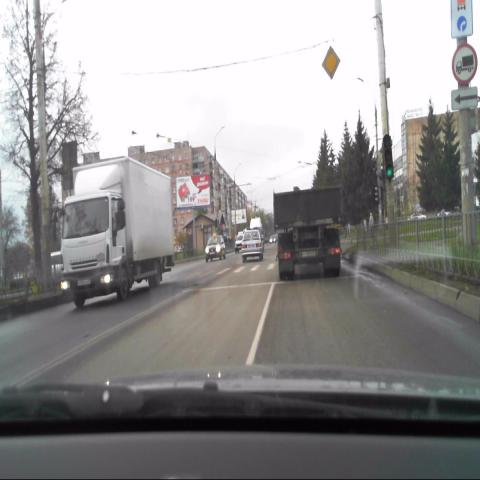8_3_2: (452, 88, 478, 110)
